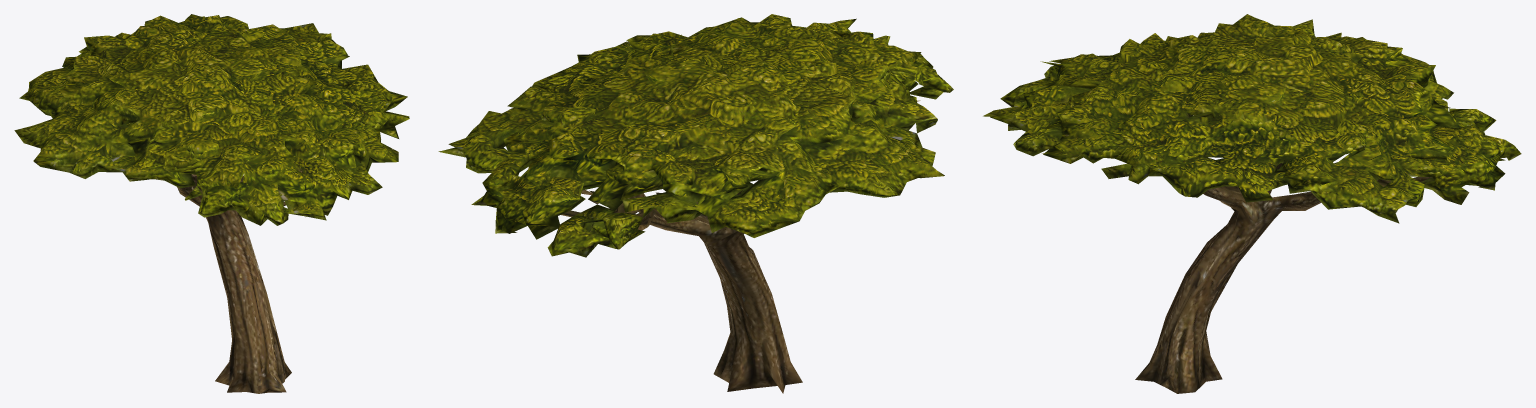
Rendered from acacia_a.glb.
3 renders of one model, left to right at view 1: azimuth 30°, elevation 25°; view 2: azimuth 150°, elevation 25°; view 3: azimuth 270°, elevation 25°, orthographic. The views are drawn at different scales.
Parts seen in each view (by area): view 1: tripo_node_8fdff149-28dc-4b4c-a405-5f2d00a109f1; view 2: tripo_node_8fdff149-28dc-4b4c-a405-5f2d00a109f1; view 3: tripo_node_8fdff149-28dc-4b4c-a405-5f2d00a109f1.
Part boxes in pixels (x1,y1,x2,y2): tripo_node_8fdff149-28dc-4b4c-a405-5f2d00a109f1: (14, 14, 409, 393); tripo_node_8fdff149-28dc-4b4c-a405-5f2d00a109f1: (438, 14, 953, 393); tripo_node_8fdff149-28dc-4b4c-a405-5f2d00a109f1: (983, 14, 1521, 393).
Size of the model in its own units: 0.8322 by 0.637 by 0.996.
Materials: 1 (1 with a texture image).
